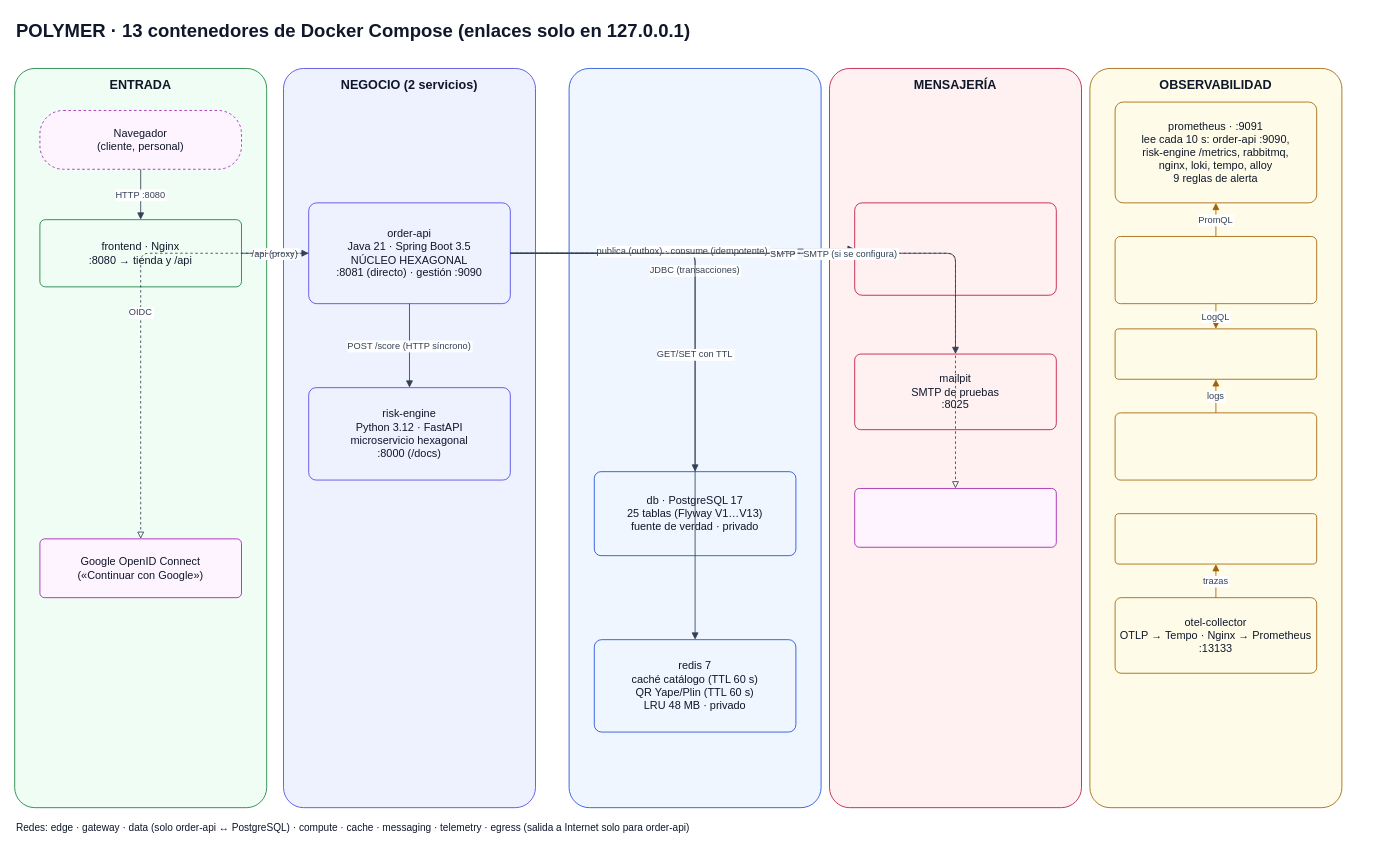
This 1390x850 diagram has some shape labels left out. Each missing label, with the box of its shape:
alloy lee logs de Docker → Loki :12345: (1114, 412, 1317, 480)
DATOS: (568, 68, 821, 808)
Gmail (opcional) smtp.gmail.com:587: (854, 488, 1056, 547)
grafana 8 dashboards :3000: (1114, 236, 1317, 304)
loki logs: (1114, 328, 1317, 379)
rabbitmq exchange hexaorders.events cola notifications + DLQ consola :15672: (854, 202, 1056, 295)
tempo trazas: (1114, 513, 1317, 564)
